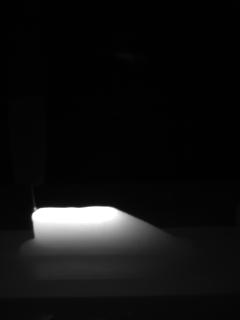tip_wire_left: (16, 181, 36, 211)
tip_wire_right: (34, 180, 45, 210)
